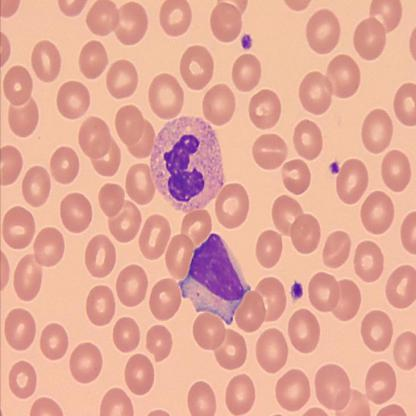Atypical lymphocyte: (150, 113, 226, 215), (177, 233, 251, 324)
